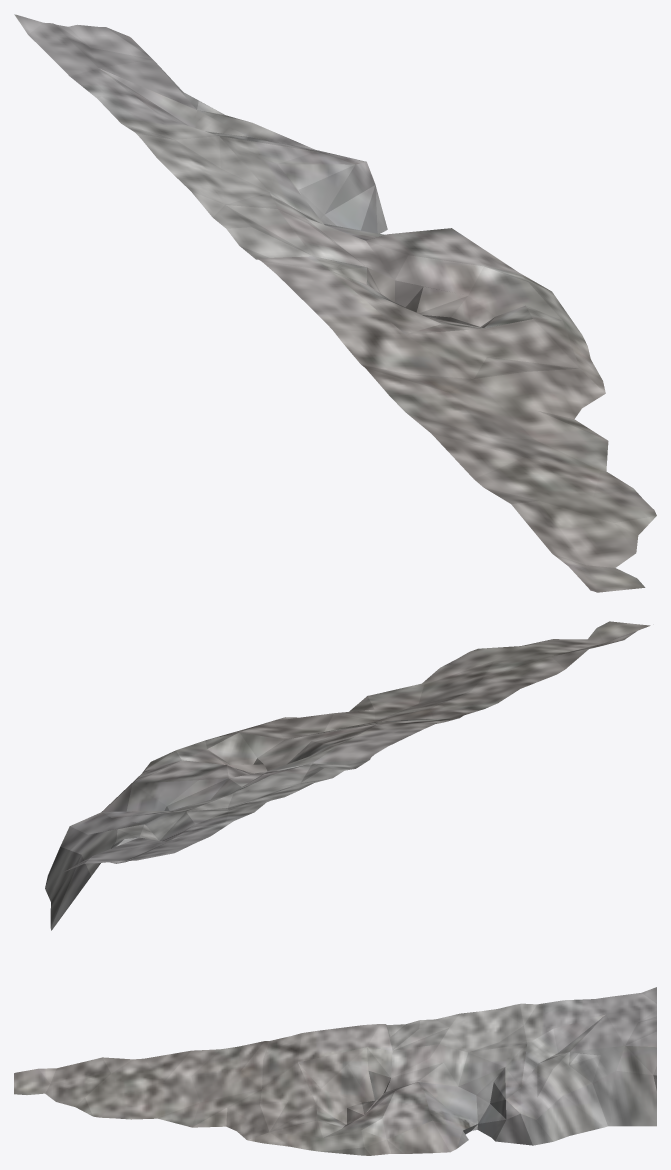
3 renders of one model, top to bottom at view 1: azimuth 30°, elevation 25°; view 2: azimuth 150°, elevation 25°; view 3: azimuth 270°, elevation 25°, orthographic. The views are drawn at different scales.
Bounding box in the file's own units: 0.2363 × 0.1323 × 0.8374.
Materials: 1 (1 with a texture image).
